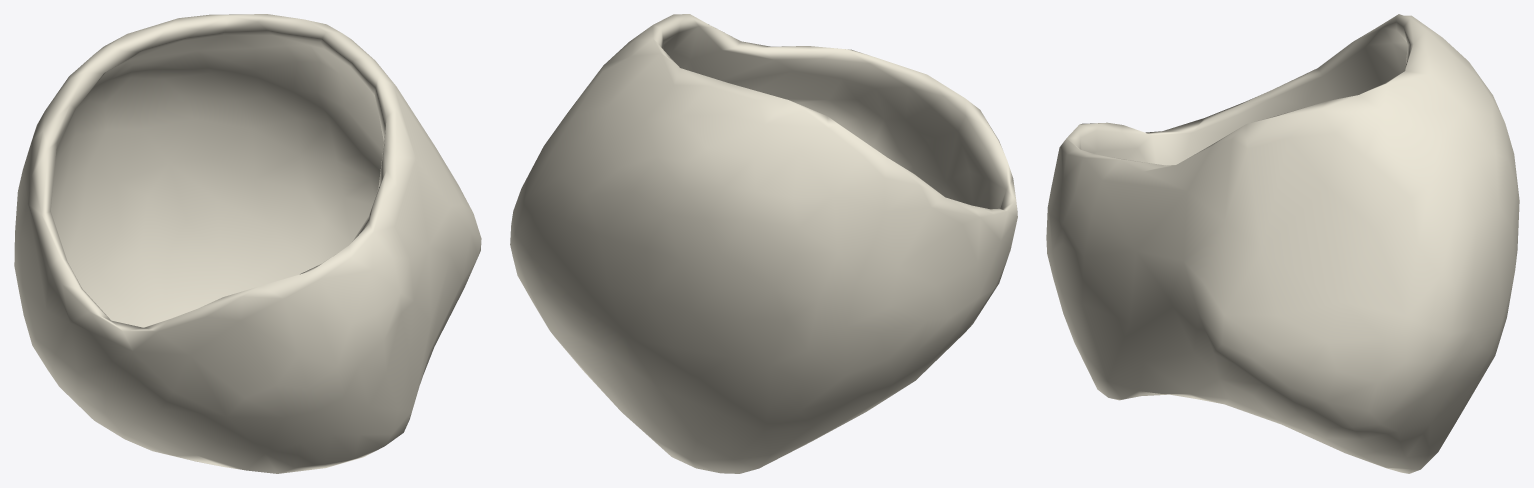
The model's file is fma57052_mm1108.glb.
The picture shows the model from 3 angles, left to right: view 1: azimuth 30°, elevation 25°; view 2: azimuth 150°, elevation 25°; view 3: azimuth 270°, elevation 25°; orthographic projection. The views are drawn at different scales.
Visible parts, largest first — view 1: FMA57052_MM1108; view 2: FMA57052_MM1108; view 3: FMA57052_MM1108.
Boxes of the visible parts, box(x1,y1,x2,y2) form: FMA57052_MM1108: box(14, 14, 481, 473); FMA57052_MM1108: box(510, 14, 1017, 473); FMA57052_MM1108: box(1046, 14, 1519, 473).
Bounding box in the file's own units: 0.0161 × 0.0145 × 0.0153.
